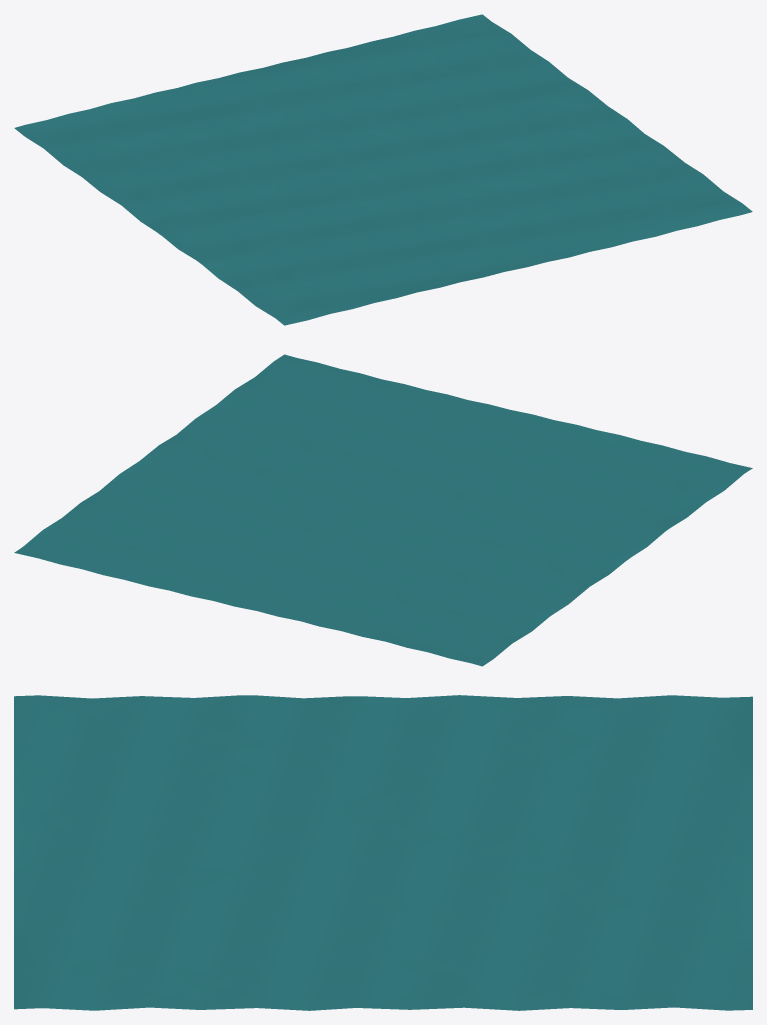
Rendered from OceanPatch.glb.
3 renders of one model, top to bottom at view 1: azimuth 30°, elevation 25°; view 2: azimuth 150°, elevation 25°; view 3: azimuth 270°, elevation 25°, orthographic. The views are drawn at different scales.
Visible parts, largest first — view 1: OceanPatch_ArabianSea_Teal; view 2: OceanPatch_ArabianSea_Teal; view 3: OceanPatch_ArabianSea_Teal.
Part boxes in pixels (x1=…): OceanPatch_ArabianSea_Teal: x1=14, y1=14, x2=752, y2=325; OceanPatch_ArabianSea_Teal: x1=14, y1=354, x2=752, y2=666; OceanPatch_ArabianSea_Teal: x1=14, y1=695, x2=752, y2=1010.
Size of the model in its own units: 40 by 0.2092 by 40.
